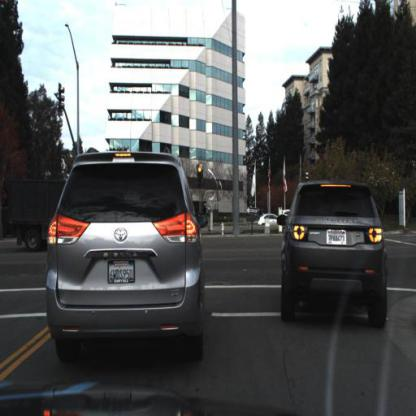car: (47, 148, 212, 367), (272, 170, 388, 328)
trafficLight: (195, 161, 206, 190)
trafficLight-Red: (194, 150, 209, 199)
truck: (7, 168, 73, 260)
